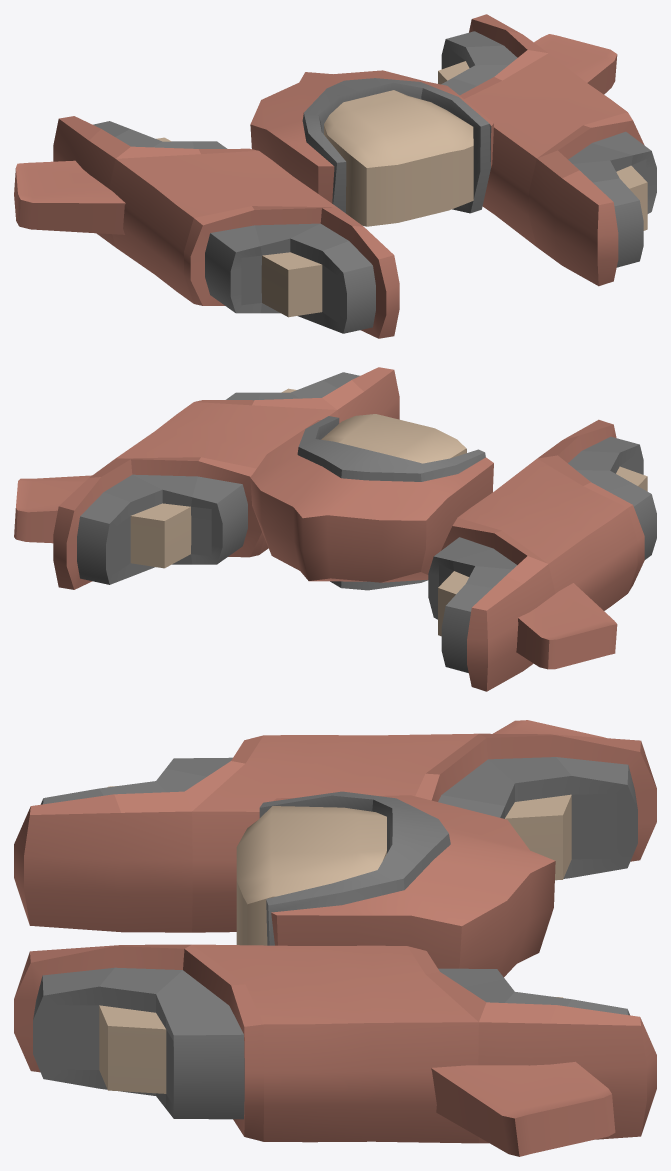
Rendered from EnemyShip_RAIDER_colored.fbx.
3 views of the same model, one above another, from view 1: azimuth 30°, elevation 25°; view 2: azimuth 150°, elevation 25°; view 3: azimuth 270°, elevation 25° (orthographic). The views are drawn at different scales.
Parts seen in each view (by area): view 1: EnemyShip_RAIDER_colored; view 2: EnemyShip_RAIDER_colored; view 3: EnemyShip_RAIDER_colored.
Boxes of the visible parts, bbox=[...] form: EnemyShip_RAIDER_colored: bbox=[14, 14, 656, 338]; EnemyShip_RAIDER_colored: bbox=[14, 367, 656, 691]; EnemyShip_RAIDER_colored: bbox=[14, 720, 656, 1156].
Bounding box in the file's own units: 25.07 × 5.37 × 17.13.
